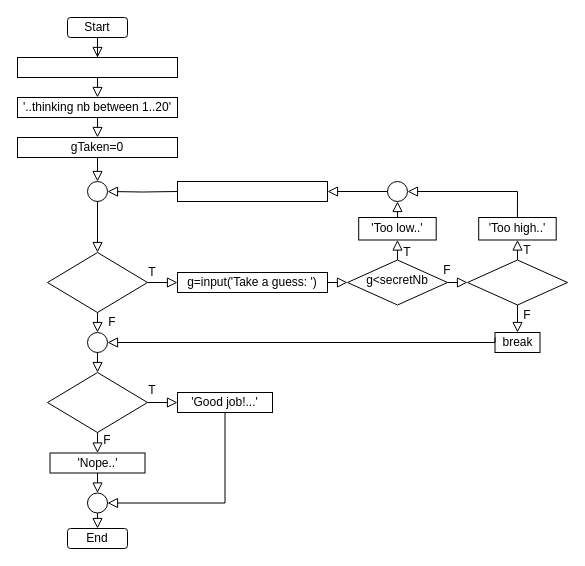
The diagram is 585 pixels wide and 566 high, and some of its shapes have lost their labels. Here are the shapes that lost their labels. From the top down, the centre of each, then its label:
At (x=97, y=67): "secretNb=randint(1,20)".
At (x=252, y=191): "gTaken+=1".
At (x=97, y=282): "gTaken<7".
At (x=517, y=282): "g>secretNb".
At (x=97, y=402): "g==secretNb".
